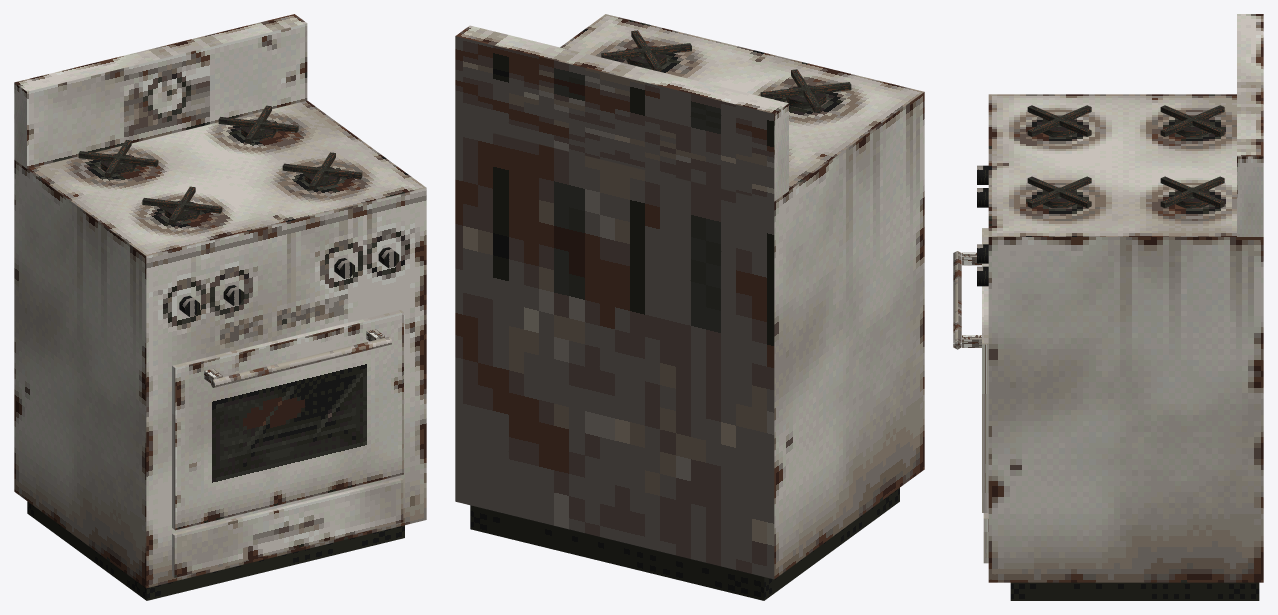
The model's file is stove_old.glb.
3 views of the same model, side by side, from view 1: azimuth 30°, elevation 25°; view 2: azimuth 150°, elevation 25°; view 3: azimuth 270°, elevation 25° (orthographic). The views are drawn at different scales.
Parts seen in each view (by area): view 1: stove_old; view 2: stove_old; view 3: stove_old.
Part boxes in pixels (x1,y1,x2,y2): stove_old: (14,14,426,600); stove_old: (455,14,924,600); stove_old: (953,14,1263,600).
Bounding box in the file's own units: 0.76 × 1.12 × 0.6995.
1 material, 1 textured.
